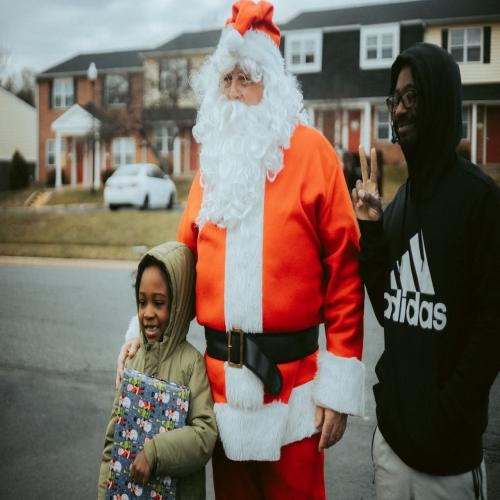Santa: (177, 0, 364, 500)
